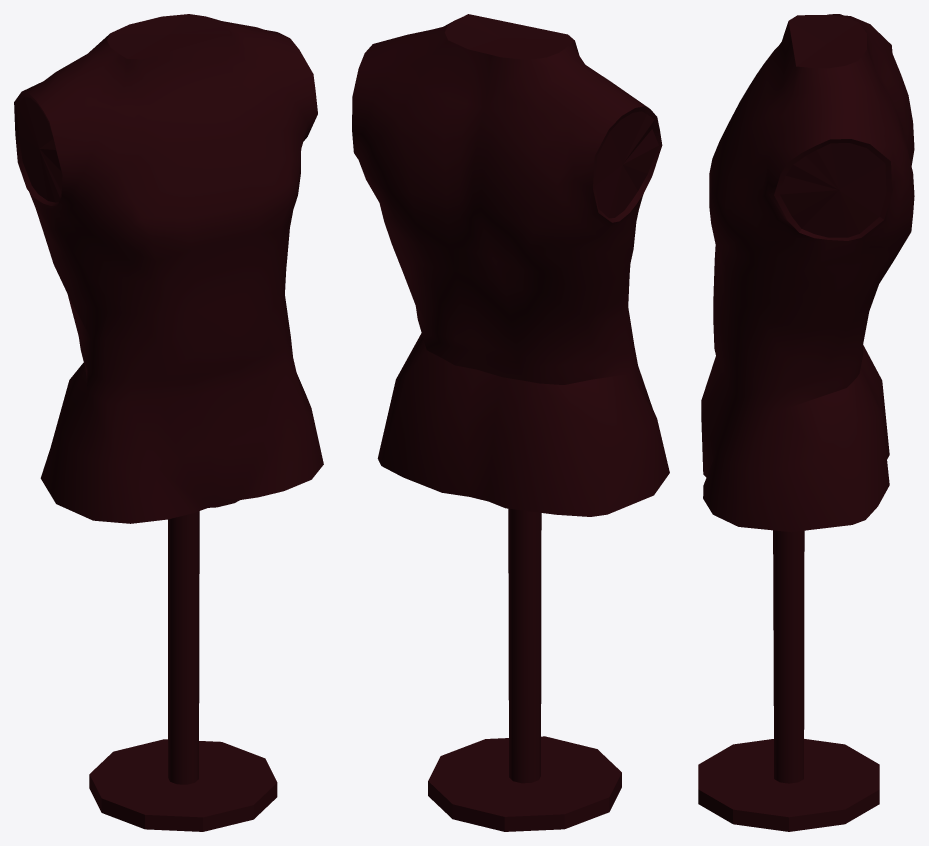
File: dummy.FBX
The picture shows the model from 3 angles, left to right: view 1: azimuth 30°, elevation 25°; view 2: azimuth 150°, elevation 25°; view 3: azimuth 270°, elevation 25°; orthographic projection. The views are drawn at different scales.
Visible parts, largest first — view 1: dummy; view 2: dummy; view 3: dummy.
Part boxes in pixels (box(x1,y1,x2,y2)): dummy: box(14, 14, 323, 831); dummy: box(352, 14, 669, 831); dummy: box(698, 14, 914, 831).
Bounding box in the file's own units: 186 × 511 × 133.
